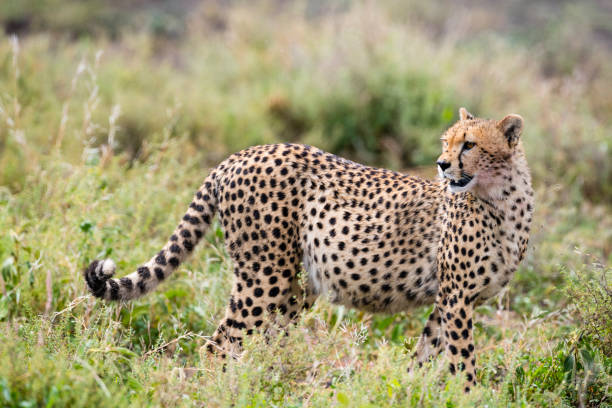cheetah: (422, 92, 534, 203)
